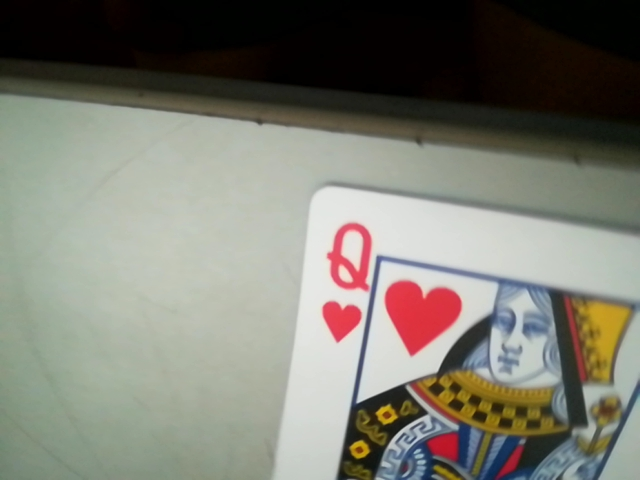hx q: (305, 213, 377, 346)
